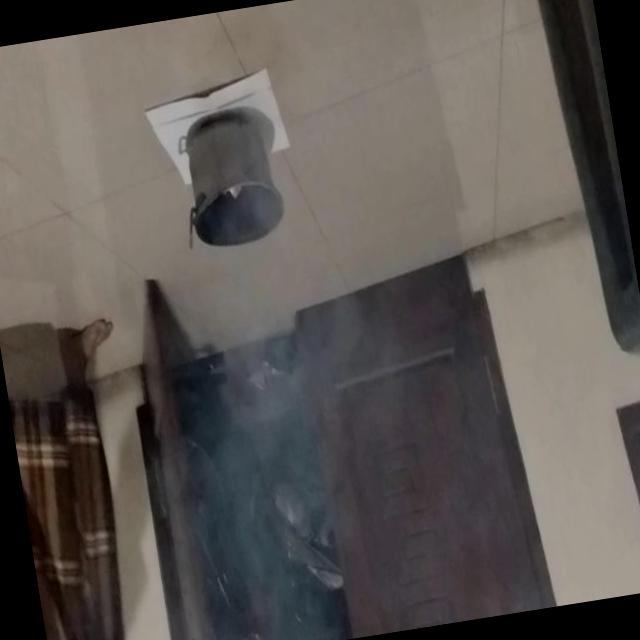smoke: (218, 272, 376, 538)
